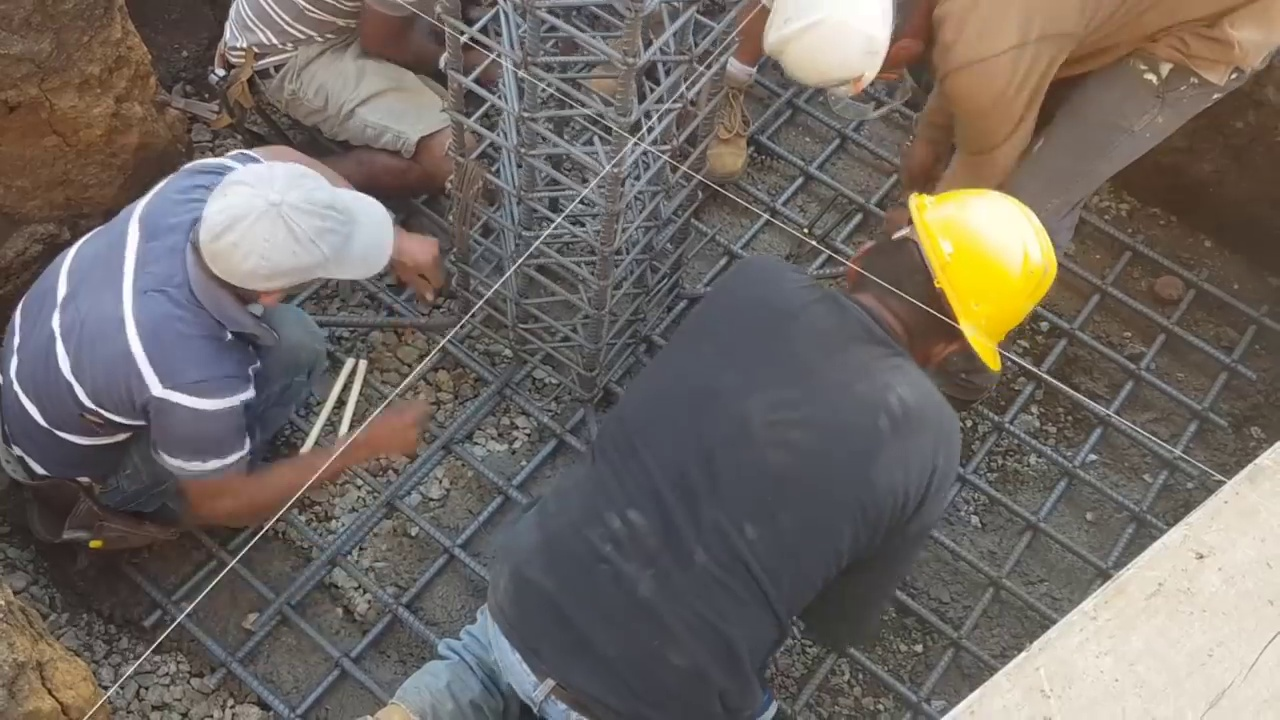helmet: (904, 186, 1054, 379), (761, 8, 902, 92)
helmet-off: (181, 145, 398, 301)
helmet-on: (831, 178, 1058, 392), (763, 2, 949, 101)
person: (367, 175, 1060, 719), (3, 130, 417, 556), (756, 2, 1276, 254), (204, 2, 522, 188), (592, 3, 772, 182)
